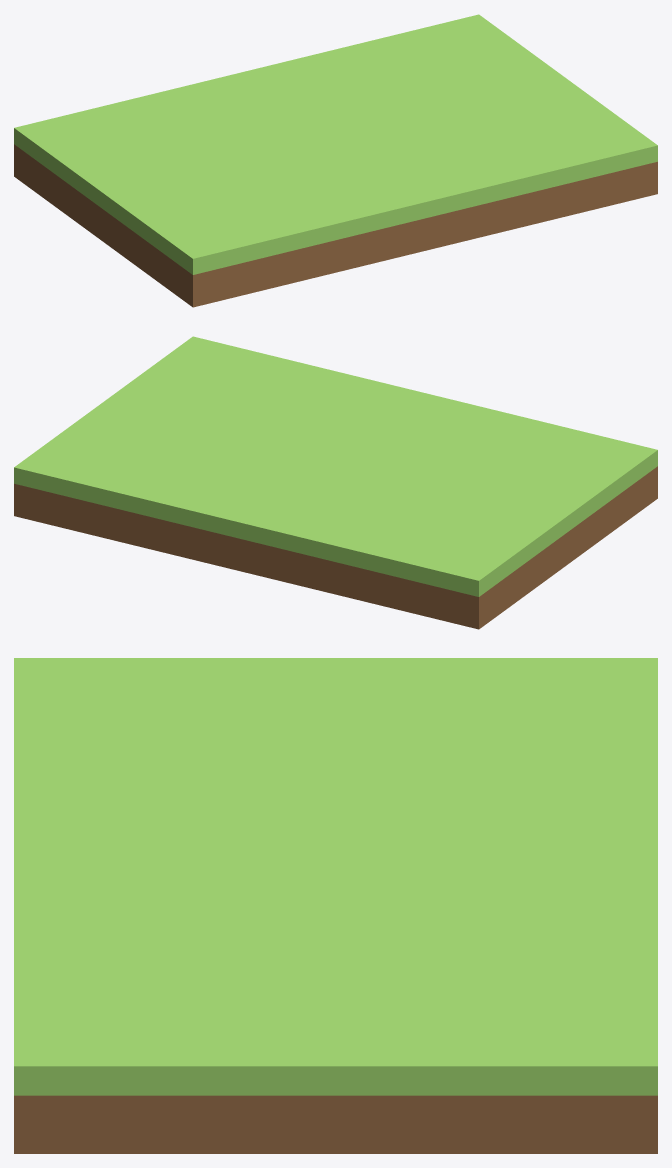
Rendered from Land1.fbx.
3 views of the same model, one above another, from view 1: azimuth 30°, elevation 25°; view 2: azimuth 150°, elevation 25°; view 3: azimuth 270°, elevation 25° (orthographic). The views are drawn at different scales.
Parts seen in each view (by area): view 1: Cube.001, Cube; view 2: Cube.001, Cube; view 3: Cube.001, Cube.
Boxes of the visible parts, bbox=[...] form: Cube.001: bbox=[14, 14, 657, 274]; Cube: bbox=[14, 144, 657, 307]; Cube.001: bbox=[14, 336, 657, 596]; Cube: bbox=[14, 466, 657, 629]; Cube.001: bbox=[14, 658, 657, 1095]; Cube: bbox=[14, 1095, 657, 1153].
Size of the model in its own units: 3000 by 300 by 2000.
